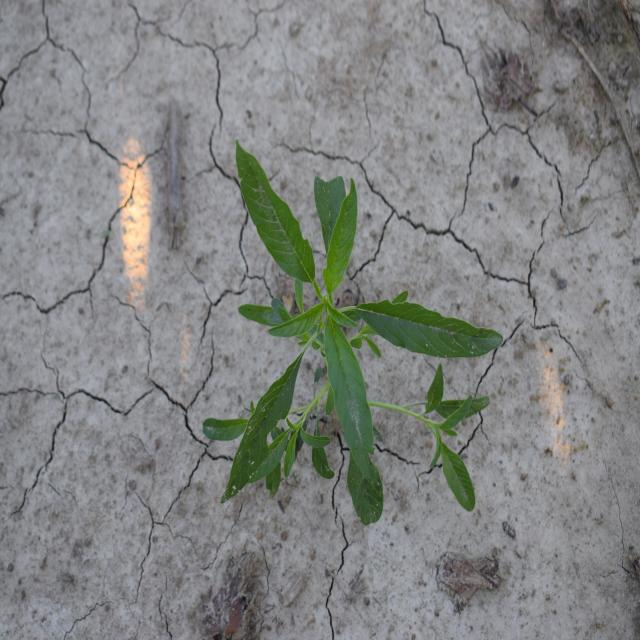Waterhemp: (202, 138, 504, 526)
